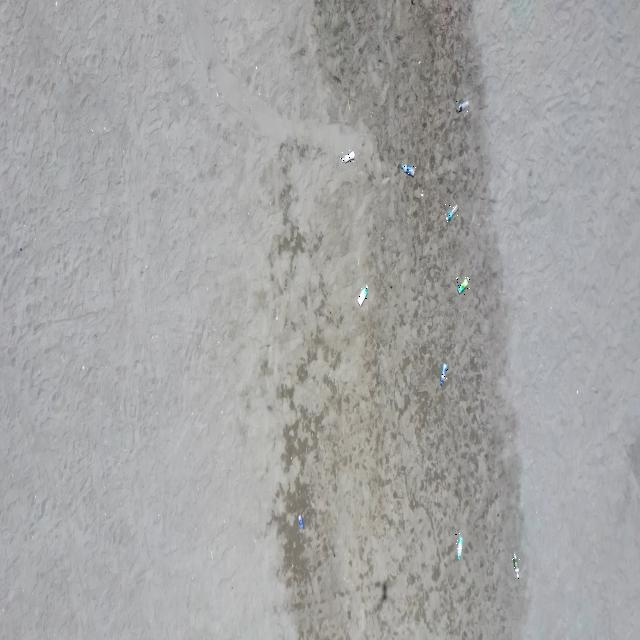plastic-bottle: (357, 285, 369, 307), (445, 204, 459, 222), (455, 533, 464, 561), (456, 277, 470, 295), (340, 149, 356, 164), (440, 361, 448, 386), (512, 554, 520, 579), (402, 164, 416, 178), (456, 99, 469, 112), (297, 513, 305, 530)
